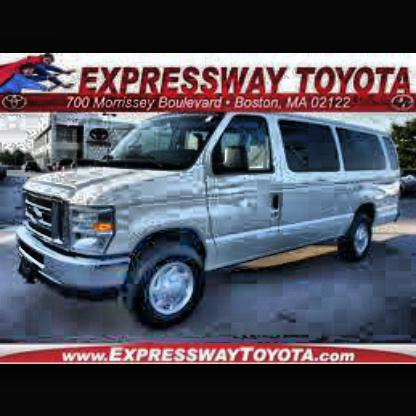Ford E-Series Wagon Van 2012: (14, 113, 413, 334)
